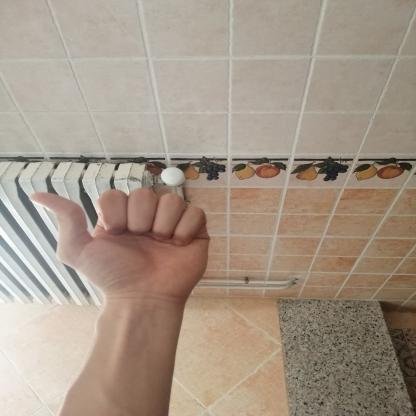DAD: (17, 181, 219, 309)
